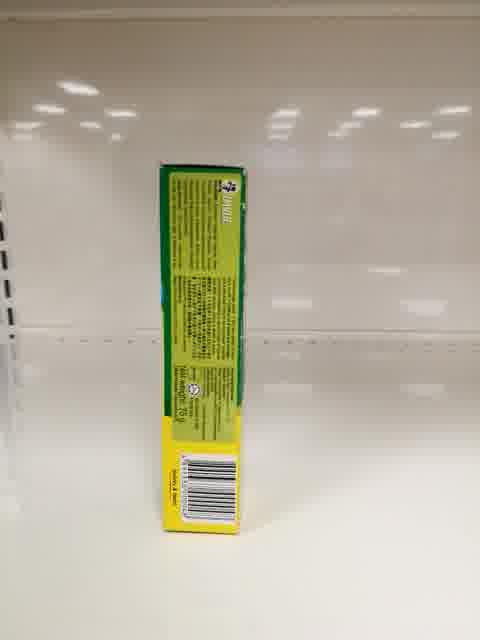toothpaste: (158, 163, 247, 537)
